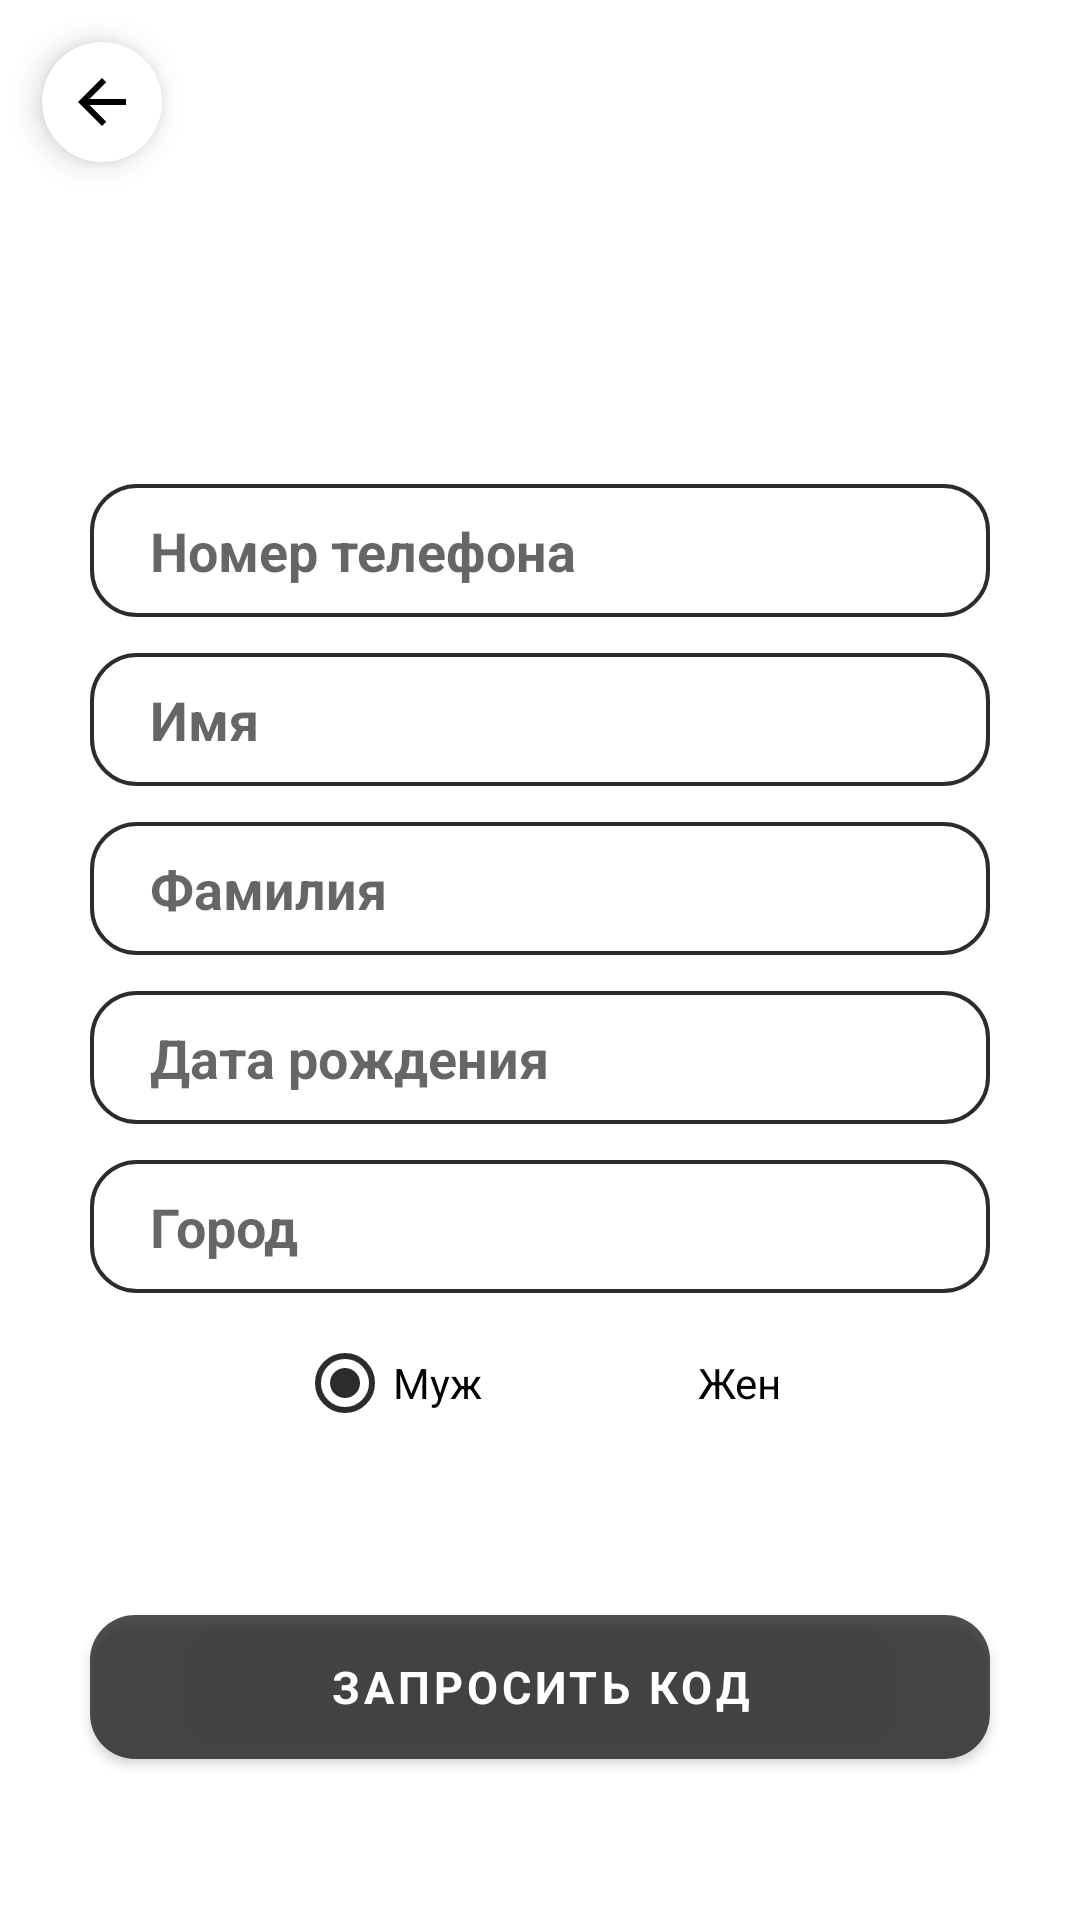

Where icons sit on this 1080×1920 app screen, as [x1, y1, x2, y2]:
back: [40, 51, 126, 162]
